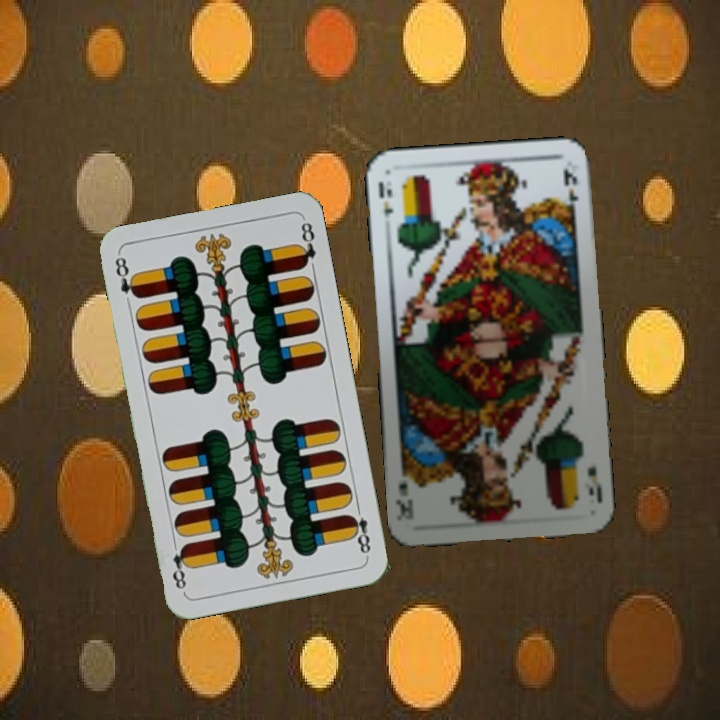E8: (345, 501, 374, 559), (111, 253, 142, 302)
EK: (582, 462, 605, 505), (374, 178, 397, 220)
